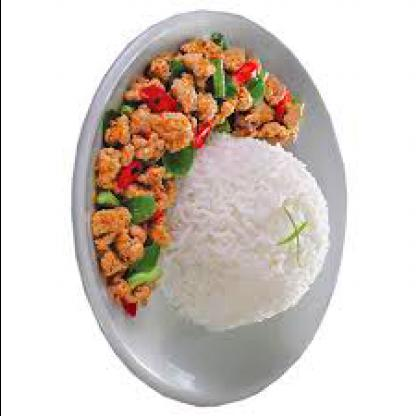Basil Rice: (80, 43, 335, 382)
